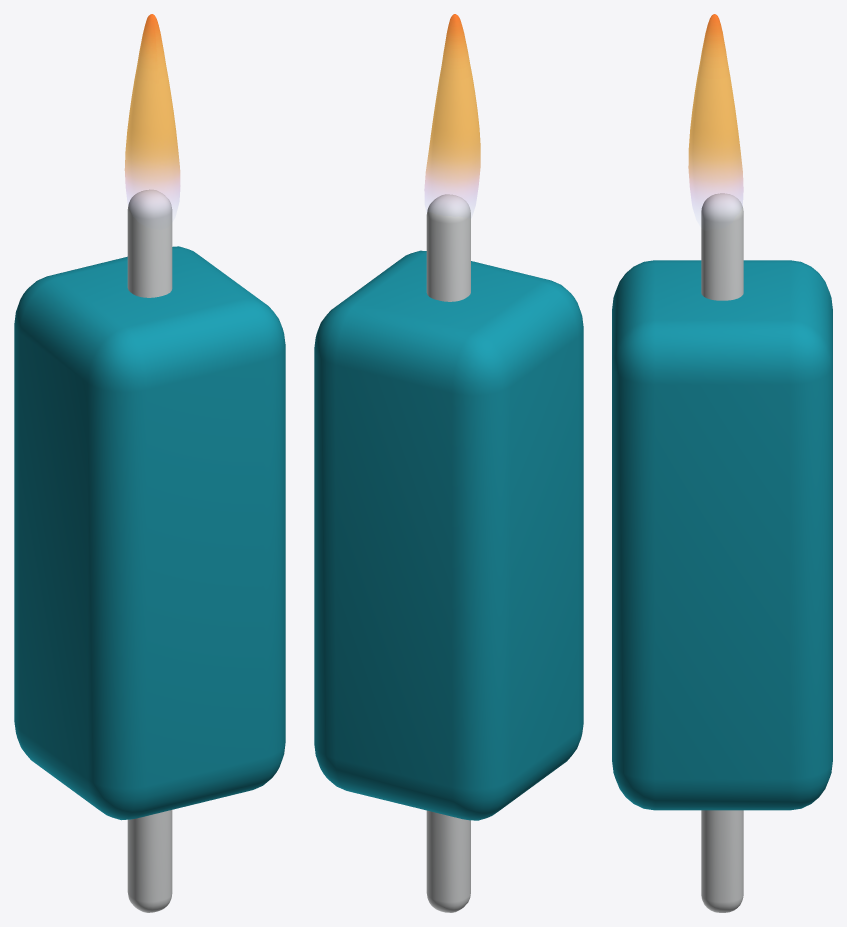
Rendered from JapaneseCandleMedium.glb.
3 views of the same model, side by side, from view 1: azimuth 30°, elevation 25°; view 2: azimuth 150°, elevation 25°; view 3: azimuth 270°, elevation 25° (orthographic).
Parts seen in each view (by area): view 1: XBase.001, XRope01.001, Flame.001; view 2: XBase.001, XRope01.001, Flame.001; view 3: XBase.001, XRope01.001, Flame.001.
Part boxes in pixels (x1,y1,x2,y2): XBase.001: [14, 246, 285, 820]; XRope01.001: [127, 189, 172, 912]; Flame.001: [124, 14, 180, 211]; XBase.001: [314, 250, 583, 820]; XRope01.001: [426, 194, 470, 912]; Flame.001: [424, 14, 480, 212]; XBase.001: [612, 260, 832, 810]; XRope01.001: [701, 193, 743, 912]; Flame.001: [688, 14, 743, 216].
Bounding box in the file's own units: 0.3675 × 1.64 × 0.3674.
Materials: 3 (1 with a texture image).
